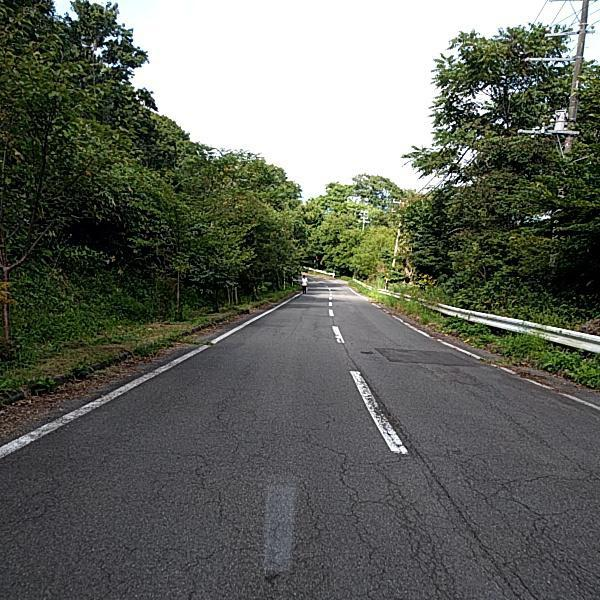D20: (119, 390, 599, 599)
D44: (0, 342, 211, 459), (347, 370, 406, 450)
